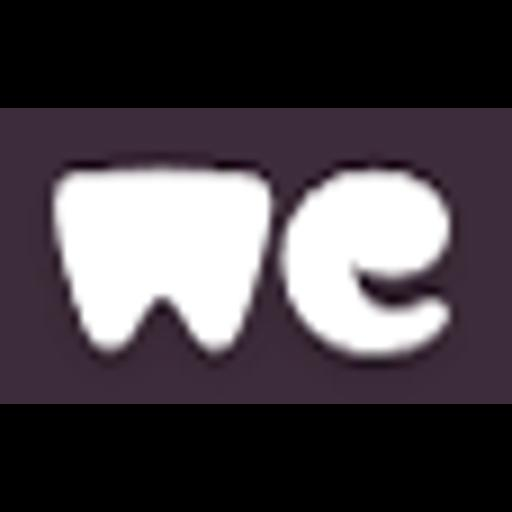WeTransfer: (0, 108, 512, 404)
